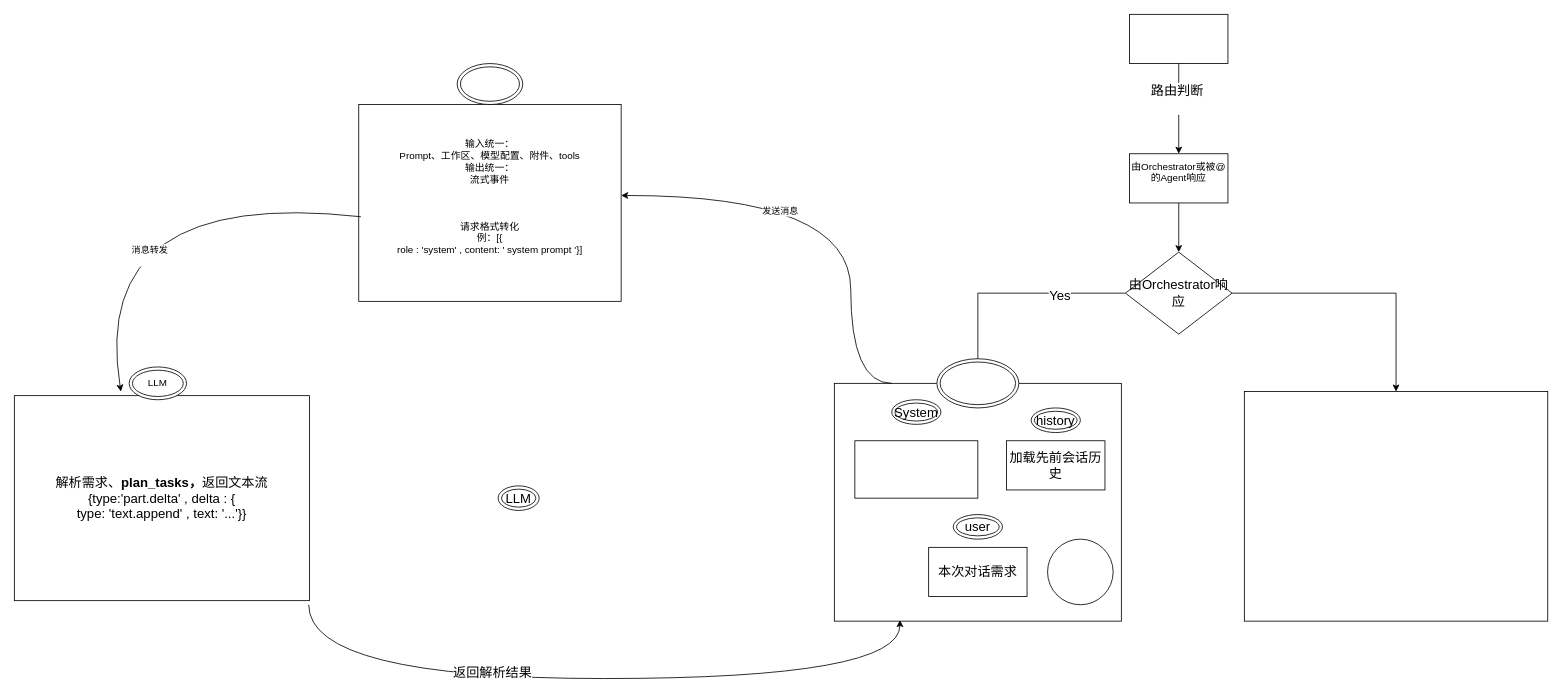
Image size: 1562x694. Some labels were removed from this diagram. Each missing label, with the box of its shape:
Adaptor: (456, 63, 523, 105)
Orchestrator: (936, 358, 1019, 408)
加载System prompt 、可用工具 然后触发DAG依赖: (854, 440, 978, 498)
用户输入: (1129, 14, 1228, 64)
组装Agent: (1047, 538, 1113, 605)
